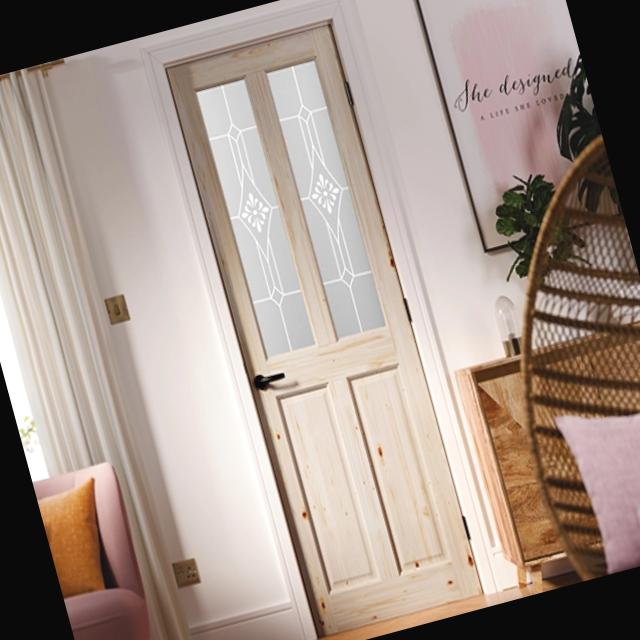door: (141, 0, 503, 640)
